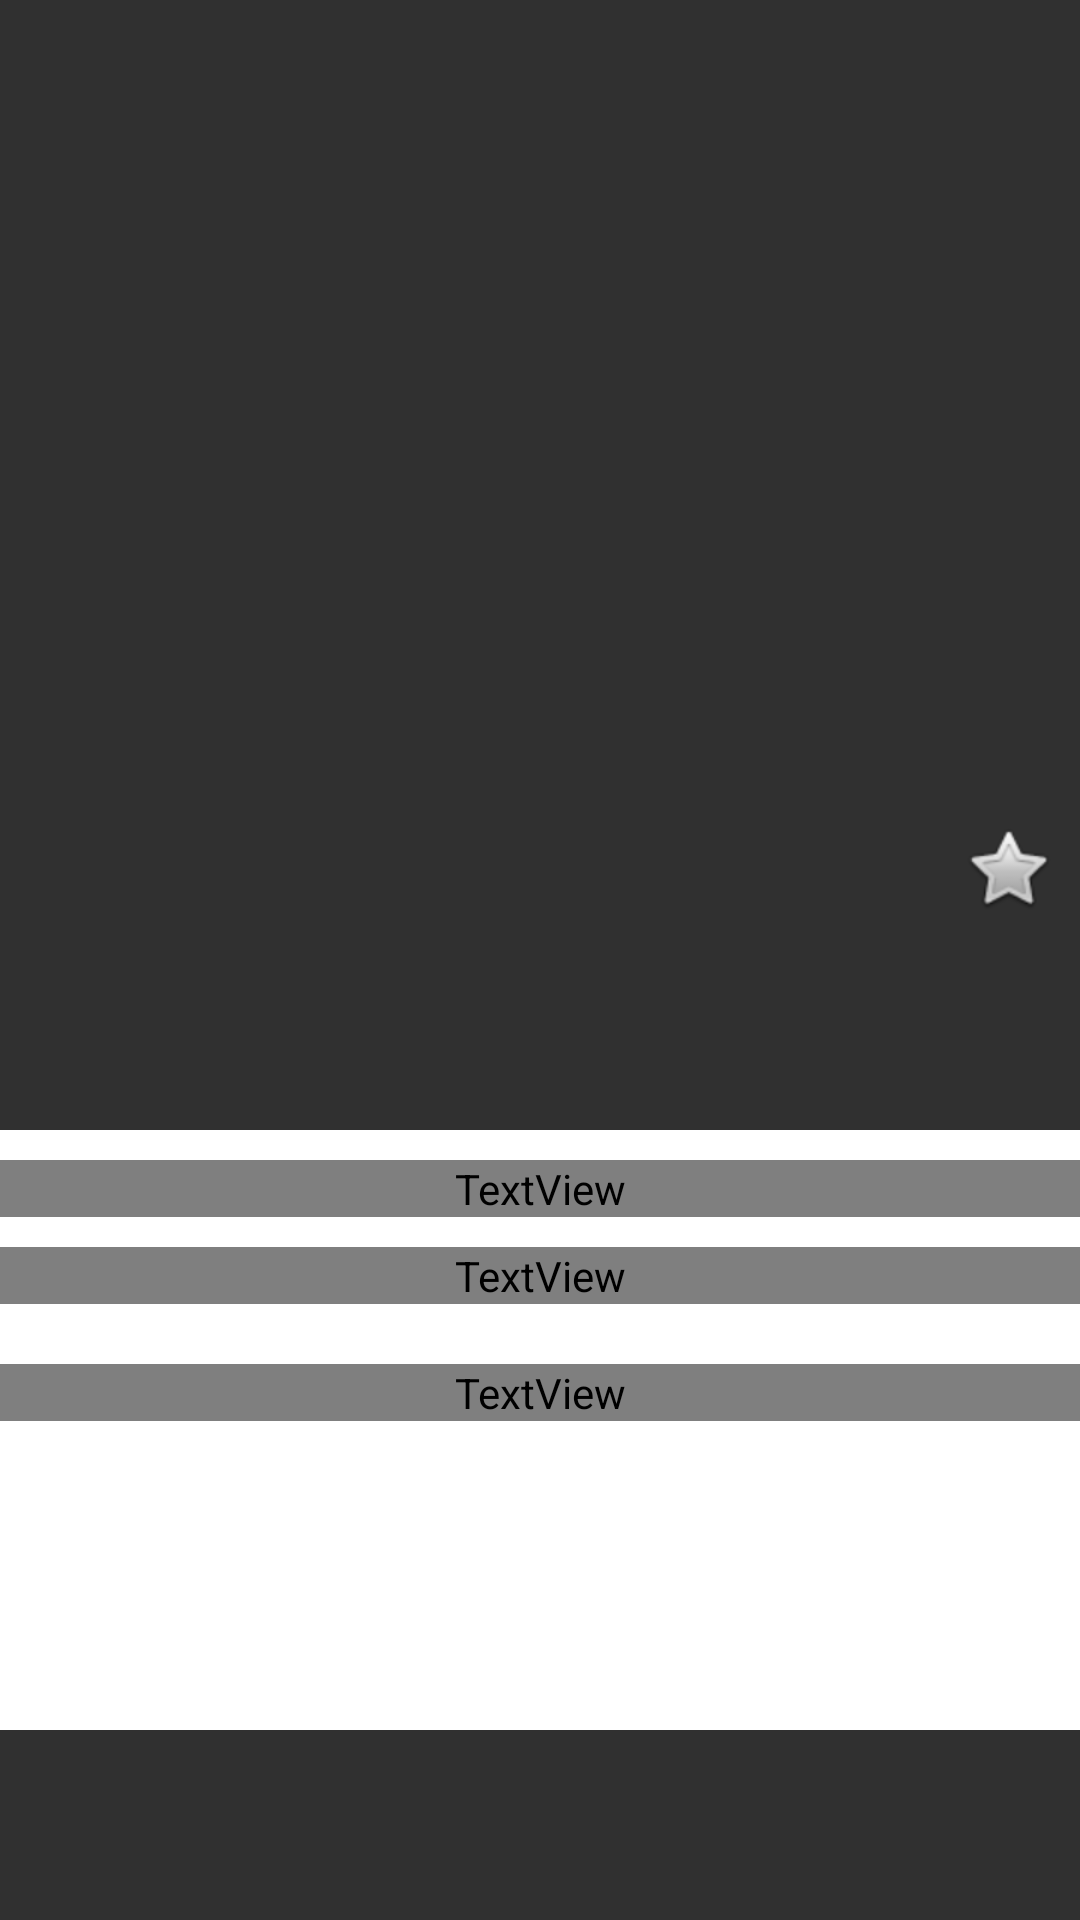

Icon bounding boxes for this 1080 x 1920 phone screenshot, format box=[x1, y1, x2, y2]:
star off: box=[971, 831, 1047, 904]
